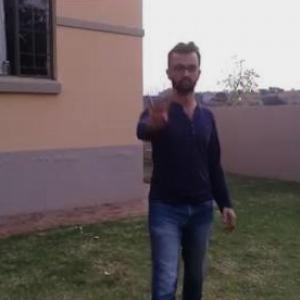takeoff-hand: (137, 78, 177, 130)
